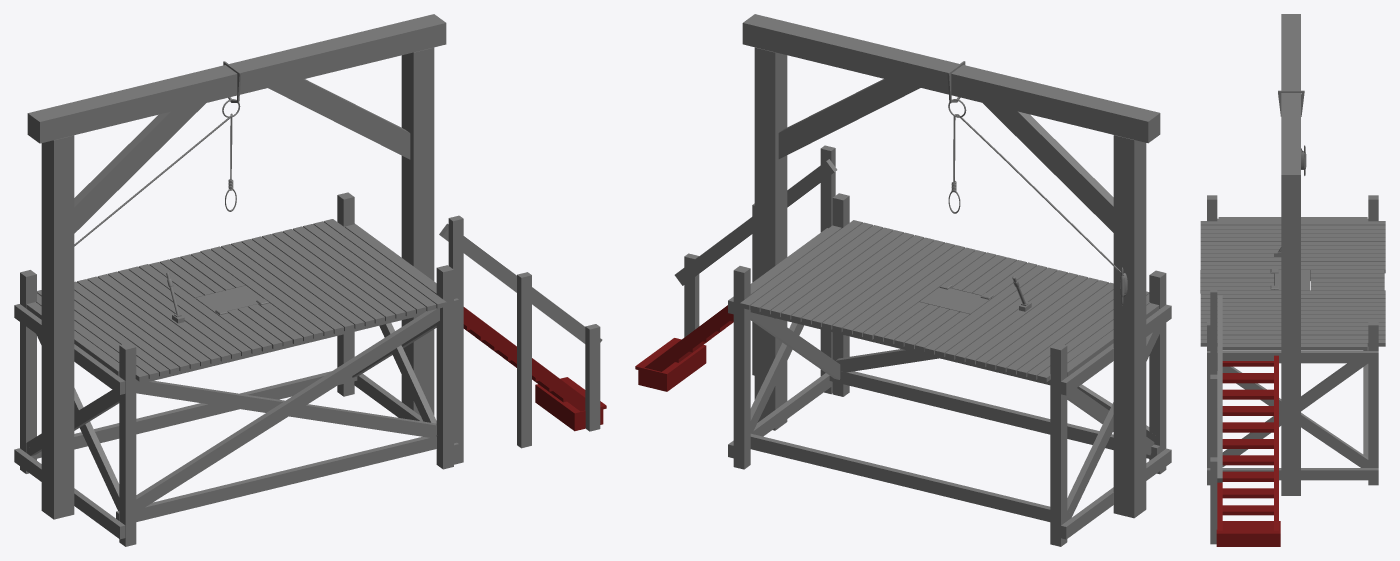
Rendered from New Gallows .obj.
3 renders of one model, left to right at view 1: azimuth 30°, elevation 25°; view 2: azimuth 150°, elevation 25°; view 3: azimuth 270°, elevation 25°, orthographic. The views are drawn at different scales.
Parts seen in each view (by area): view 1: ctrl_global polySurface69, ctrl_global polySurface127, ctrl_global polySurface80, ctrl_global polySurface55, ctrl_global polySurface71, ctrl_global TrapDoors ctrl_trapdoor ntrl_TrapDoor, ctrl_global polySurface58; view 2: ctrl_global polySurface69, ctrl_global polySurface80, ctrl_global polySurface127, ctrl_global polySurface55, ctrl_global polySurface71, ctrl_global TrapDoors ctrl_trapdoor ntrl_TrapDoor, ctrl_global polySurface58; view 3: ctrl_global polySurface80, ctrl_global polySurface69, ctrl_global polySurface127, ctrl_global polySurface71, ctrl_global polySurface55, ctrl_global TrapDoors ctrl_trapdoor ntrl_TrapDoor.
Part boxes in pixels (left/top/right/bottom): ctrl_global polySurface69: left=27, top=14, right=446, bottom=519; ctrl_global polySurface127: left=14, top=192, right=458, bottom=546; ctrl_global polySurface80: left=26, top=219, right=446, bottom=381; ctrl_global polySurface55: left=439, top=215, right=602, bottom=464; ctrl_global polySurface71: left=463, top=307, right=606, bottom=431; ctrl_global TrapDoors ctrl_trapdoor ntrl_TrapDoor: left=195, top=285, right=263, bottom=314; ctrl_global polySurface58: left=74, top=113, right=236, bottom=246; ctrl_global polySurface69: left=742, top=14, right=1160, bottom=518; ctrl_global polySurface80: left=740, top=220, right=1159, bottom=382; ctrl_global polySurface127: left=728, top=193, right=1171, bottom=546; ctrl_global polySurface55: left=674, top=145, right=837, bottom=394; ctrl_global polySurface71: left=635, top=305, right=733, bottom=391; ctrl_global TrapDoors ctrl_trapdoor ntrl_TrapDoor: left=920, top=287, right=991, bottom=314; ctrl_global polySurface58: left=948, top=114, right=1127, bottom=297; ctrl_global polySurface80: left=1200, top=217, right=1385, bottom=350; ctrl_global polySurface69: left=1281, top=14, right=1300, bottom=495; ctrl_global polySurface127: left=1207, top=195, right=1378, bottom=485; ctrl_global polySurface71: left=1216, top=355, right=1280, bottom=546; ctrl_global polySurface55: left=1210, top=288, right=1222, bottom=544; ctrl_global TrapDoors ctrl_trapdoor ntrl_TrapDoor: left=1275, top=270, right=1309, bottom=290.
Size of the model in its own units: 18.33 by 13.39 by 6.87.
